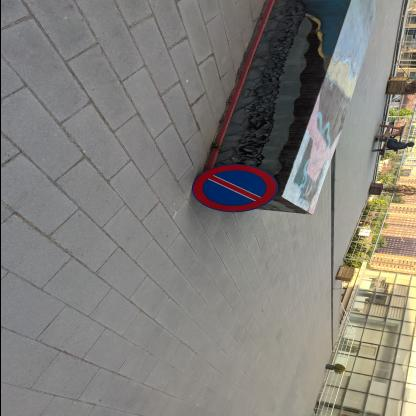No Waiting: (195, 166, 277, 214)
